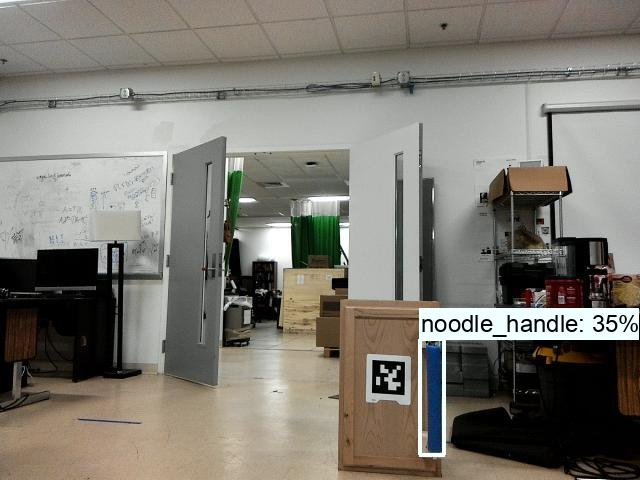noodle_handle: (420, 339, 446, 457)
